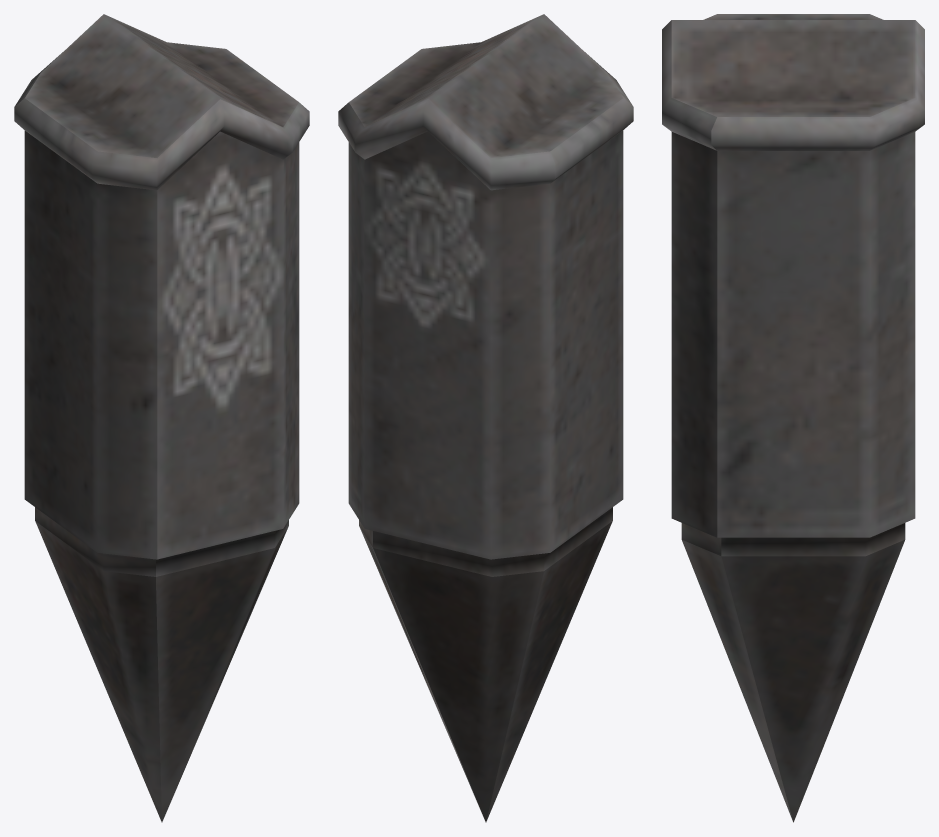
File: sm_dwarf_erebor_axe_pommel_2h_b.fbx
3 renders of one model, left to right at view 1: azimuth 30°, elevation 25°; view 2: azimuth 150°, elevation 25°; view 3: azimuth 270°, elevation 25°, orthographic. The views are drawn at different scales.
Visible parts, largest first — view 1: sm_dwarf_erebor_axe_pommel_2h_b; view 2: sm_dwarf_erebor_axe_pommel_2h_b; view 3: sm_dwarf_erebor_axe_pommel_2h_b.
Part boxes in pixels (box(x1,y1,x2,y2)): sm_dwarf_erebor_axe_pommel_2h_b: box(14, 14, 309, 822); sm_dwarf_erebor_axe_pommel_2h_b: box(338, 14, 633, 822); sm_dwarf_erebor_axe_pommel_2h_b: box(662, 14, 924, 822).
Bounding box in the file's own units: 0.0521 × 0.0521 × 0.1758.
Materials: 1 (1 with a texture image).
